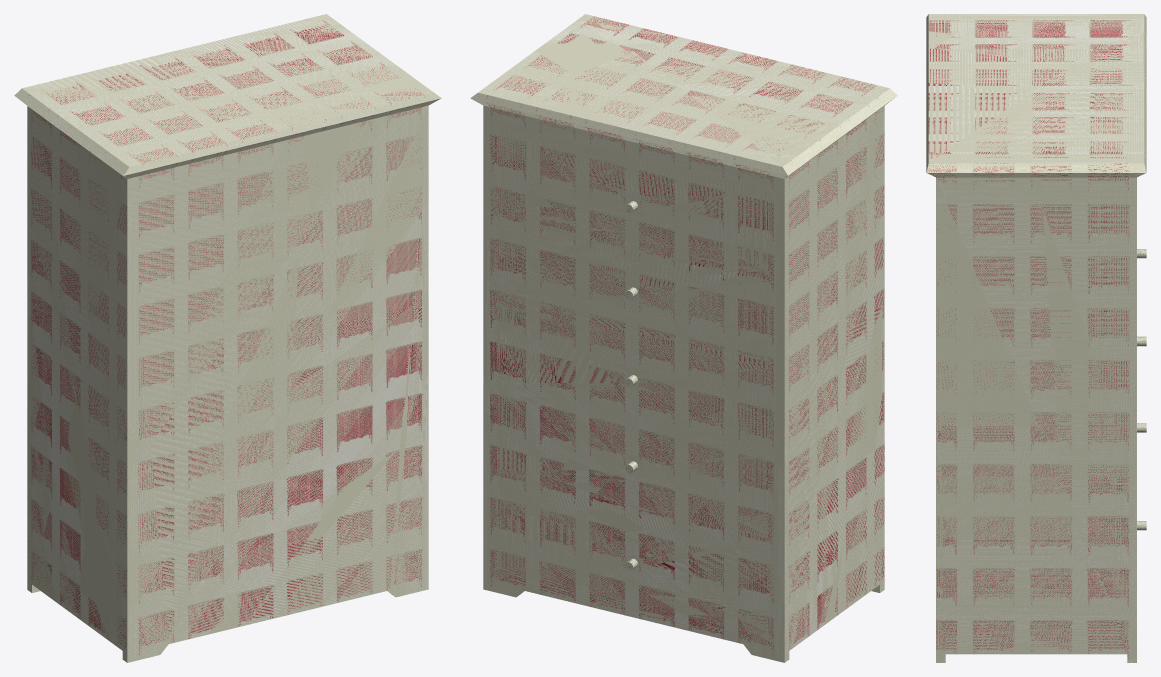
The picture shows the model from 3 angles, left to right: view 1: azimuth 30°, elevation 25°; view 2: azimuth 150°, elevation 25°; view 3: azimuth 270°, elevation 25°; orthographic projection.
Parts seen in each view (by area): view 1: mesh3_mesh3-geometry; view 2: mesh3_mesh3-geometry; view 3: mesh3_mesh3-geometry, mesh1_mesh1-geometry.
Boxes of the visible parts, x1=… form: mesh3_mesh3-geometry: x1=14, y1=14, x2=441, y2=662; mesh3_mesh3-geometry: x1=470, y1=14, x2=897, y2=662; mesh3_mesh3-geometry: x1=926, y1=14, x2=1146, y2=662; mesh1_mesh1-geometry: x1=1137, y1=249, x2=1146, y2=530.
Size of the model in its own units: 0.5265 by 0.7898 by 0.3146.
